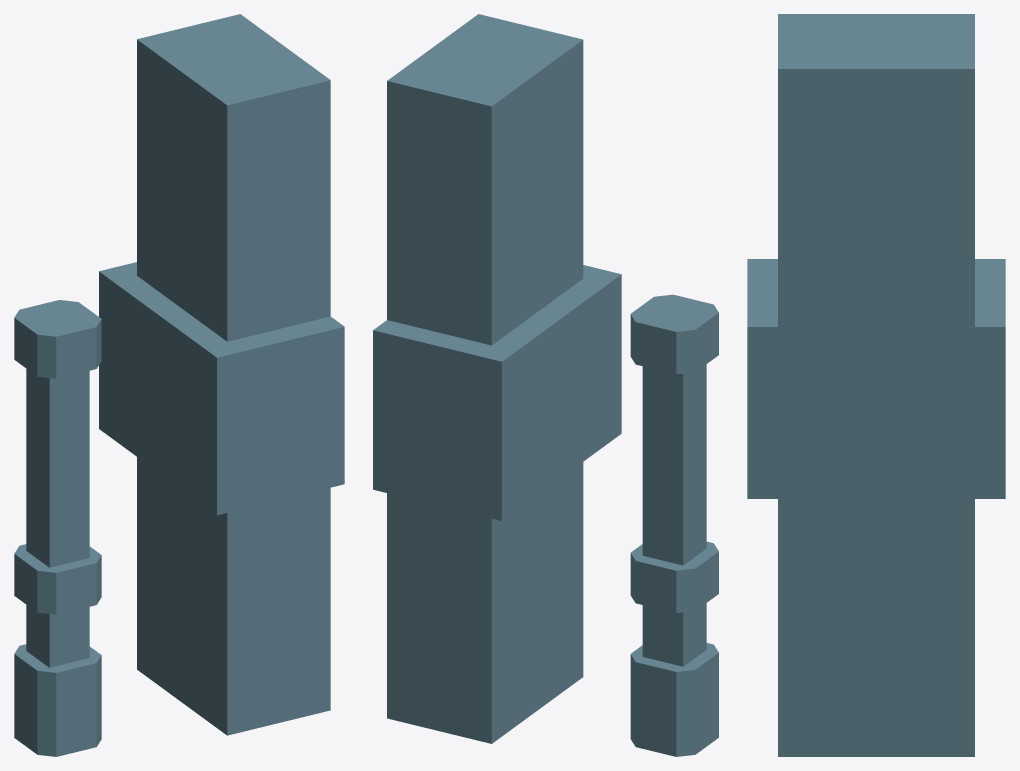
The model's file is power.glb.
The picture shows the model from 3 angles, left to right: view 1: azimuth 30°, elevation 25°; view 2: azimuth 150°, elevation 25°; view 3: azimuth 270°, elevation 25°; orthographic projection. The views are drawn at different scales.
Size of the model in its own units: 5.29 by 12 by 4.08.
